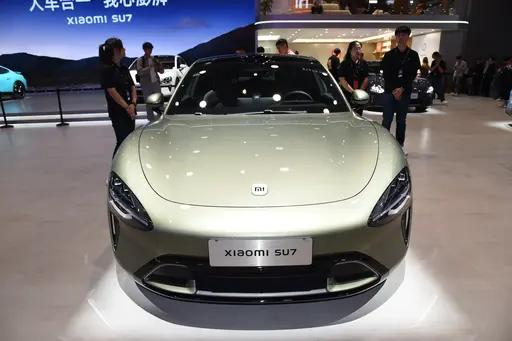XIAOMI: (251, 183, 269, 196)
